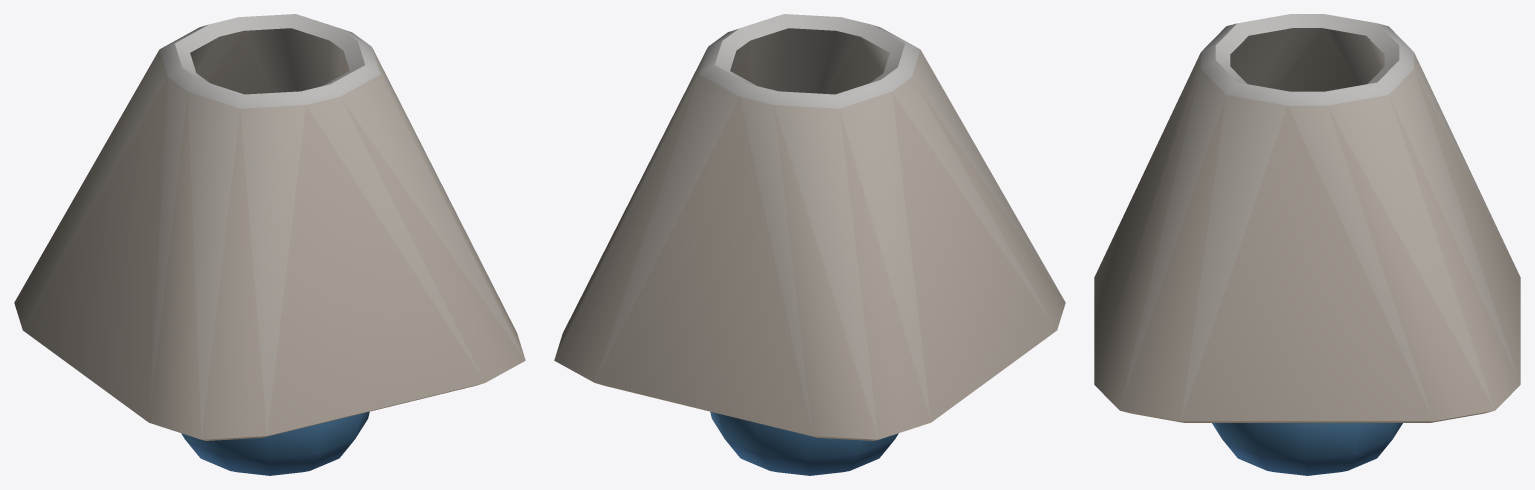
File: kk_furniture_lamp_table.glb
3 renders of one model, left to right at view 1: azimuth 30°, elevation 25°; view 2: azimuth 150°, elevation 25°; view 3: azimuth 270°, elevation 25°, orthographic.
Visible parts, largest first — view 1: kk_furniture_lamp_table; view 2: kk_furniture_lamp_table; view 3: kk_furniture_lamp_table.
Boxes of the visible parts, x1,y1,x2,y2 form: kk_furniture_lamp_table: (14,14,525,475); kk_furniture_lamp_table: (554,14,1065,475); kk_furniture_lamp_table: (1094,14,1520,475).
Bounding box in the file's own units: 1 × 1.02 × 1.
